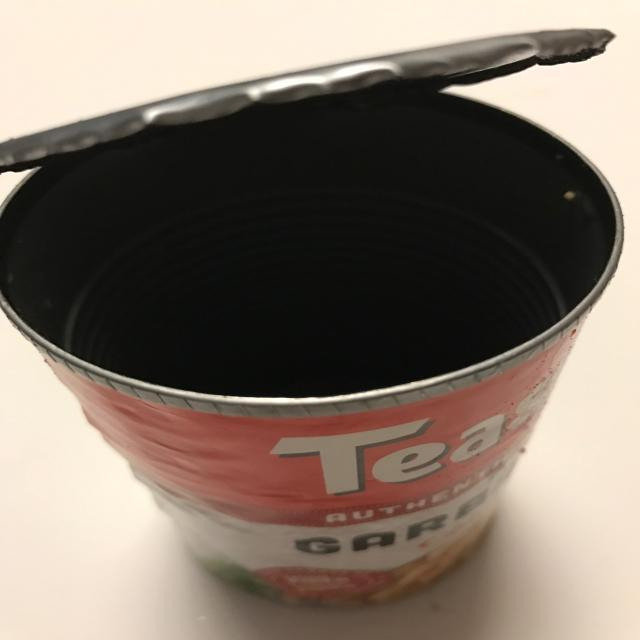metal: (1, 26, 629, 598)
